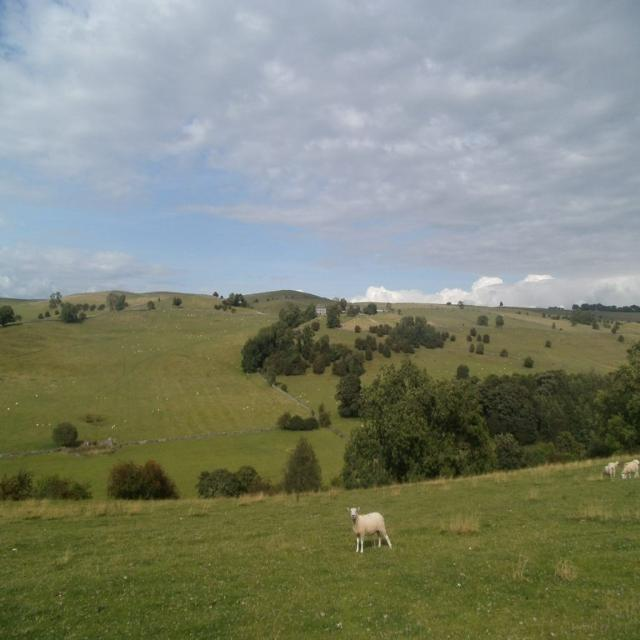Sheep: (346, 506, 391, 559)
